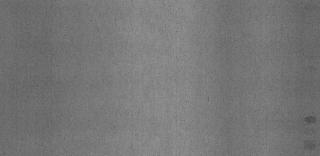oil spot: (304, 138, 316, 152), (304, 115, 316, 126)
